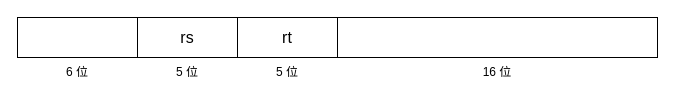
This 675x105 diagram has some shape labels left out. The centre of each missing label's shape, as x and y in pixels:
constant / address: (497,37)
op: (77,37)
